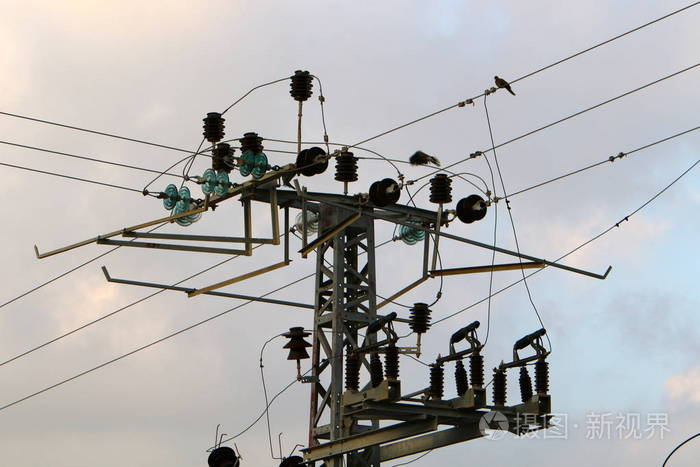insulator: (200, 168, 228, 201), (239, 150, 269, 180), (161, 184, 195, 209), (292, 211, 316, 237), (400, 223, 426, 246), (175, 205, 200, 228)
